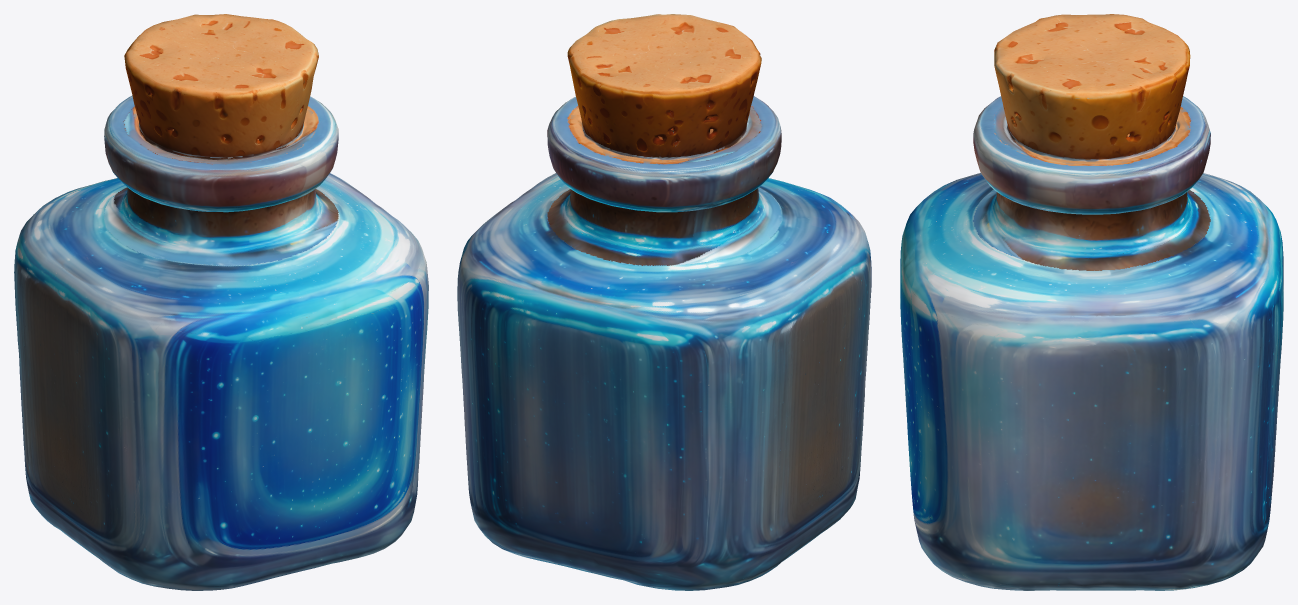
File: potion-blue.glb
The picture shows the model from 3 angles, left to right: view 1: azimuth 30°, elevation 25°; view 2: azimuth 150°, elevation 25°; view 3: azimuth 270°, elevation 25°; orthographic projection. The views are drawn at different scales.
Parts seen in each view (by area): view 1: texture_mapping; view 2: texture_mapping; view 3: texture_mapping.
Boxes of the visible parts, bbox=[...] form: texture_mapping: bbox=[14, 14, 428, 590]; texture_mapping: bbox=[457, 14, 871, 590]; texture_mapping: bbox=[900, 14, 1283, 590].
Size of the model in its own units: 0.7327 by 0.9958 by 0.7321.
Materials: 1 (1 with a texture image).
